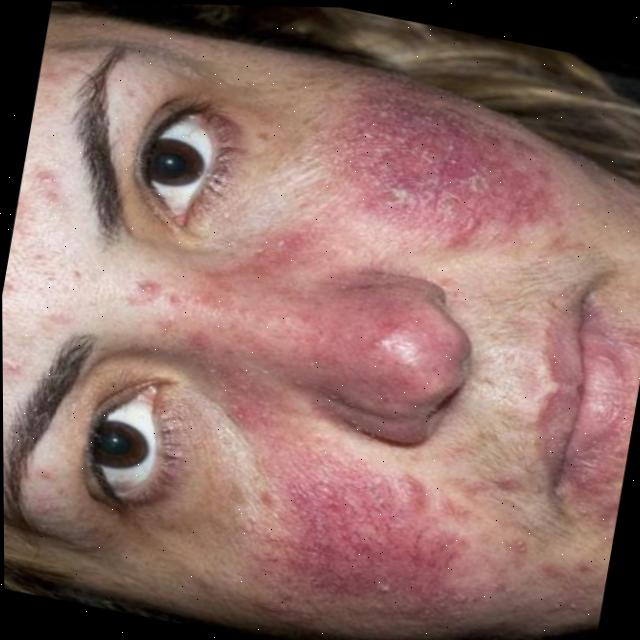Rosacea: (116, 205, 460, 422), (183, 373, 484, 618), (303, 65, 562, 276)
